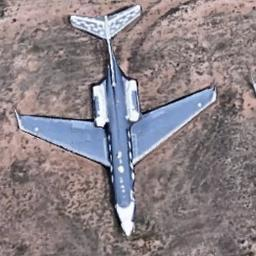Airplane: (14, 2, 217, 237)
